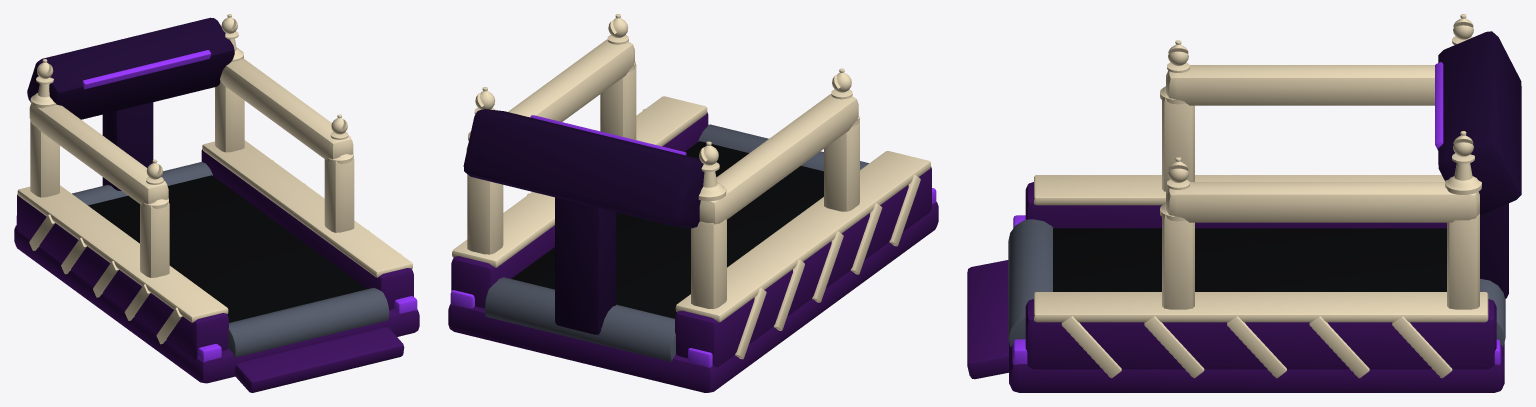
File: BishopRun.obj
3 renders of one model, left to right at view 1: azimuth 30°, elevation 25°; view 2: azimuth 150°, elevation 25°; view 3: azimuth 270°, elevation 25°, orthographic. The views are drawn at different scales.
Visible parts, largest first — view 1: BishopRun_Chassis, BishopRun_Rail, BishopRun_Belt, BishopRun_Trim, BishopRun_Console, BishopRun_Steel, BishopRun_Screen; view 2: BishopRun_Console, BishopRun_Chassis, BishopRun_Rail, BishopRun_Trim, BishopRun_Belt, BishopRun_Steel, BishopRun_Screen; view 3: BishopRun_Chassis, BishopRun_Rail, BishopRun_Trim, BishopRun_Belt, BishopRun_Console, BishopRun_Steel, BishopRun_Screen.
Part boxes in pixels (x1,y1,x2,y2): BishopRun_Chassis: [14, 149, 419, 392]; BishopRun_Rail: [29, 58, 354, 277]; BishopRun_Belt: [88, 175, 367, 322]; BishopRun_Trim: [17, 14, 412, 344]; BishopRun_Console: [27, 17, 234, 190]; BishopRun_Steel: [72, 162, 389, 357]; BishopRun_Screen: [16, 50, 417, 362]; BishopRun_Console: [463, 109, 704, 334]; BishopRun_Chassis: [448, 112, 938, 392]; BishopRun_Rail: [466, 39, 859, 309]; BishopRun_Trim: [452, 14, 930, 359]; BishopRun_Belt: [511, 141, 823, 318]; BishopRun_Steel: [484, 124, 868, 361]; BishopRun_Screen: [450, 115, 936, 367]; BishopRun_Chassis: [967, 182, 1504, 392]; BishopRun_Rail: [1162, 65, 1479, 309]; BishopRun_Trim: [1034, 14, 1488, 378]; BishopRun_Belt: [1053, 228, 1446, 291]; BishopRun_Console: [1438, 31, 1521, 298]; BishopRun_Steel: [1008, 219, 1505, 346]; BishopRun_Screen: [1013, 62, 1500, 364].
Size of the model in its own units: 8.2 by 6.91 by 13.42.
